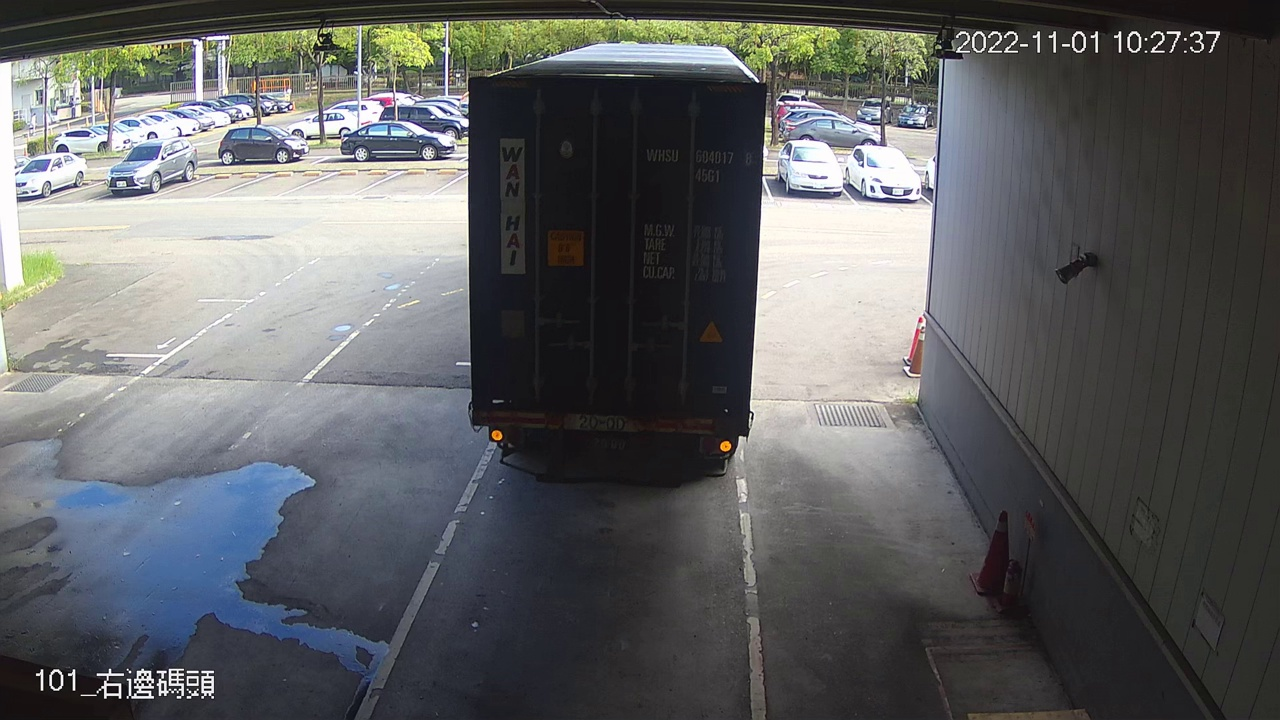container: (642, 138, 757, 192)
